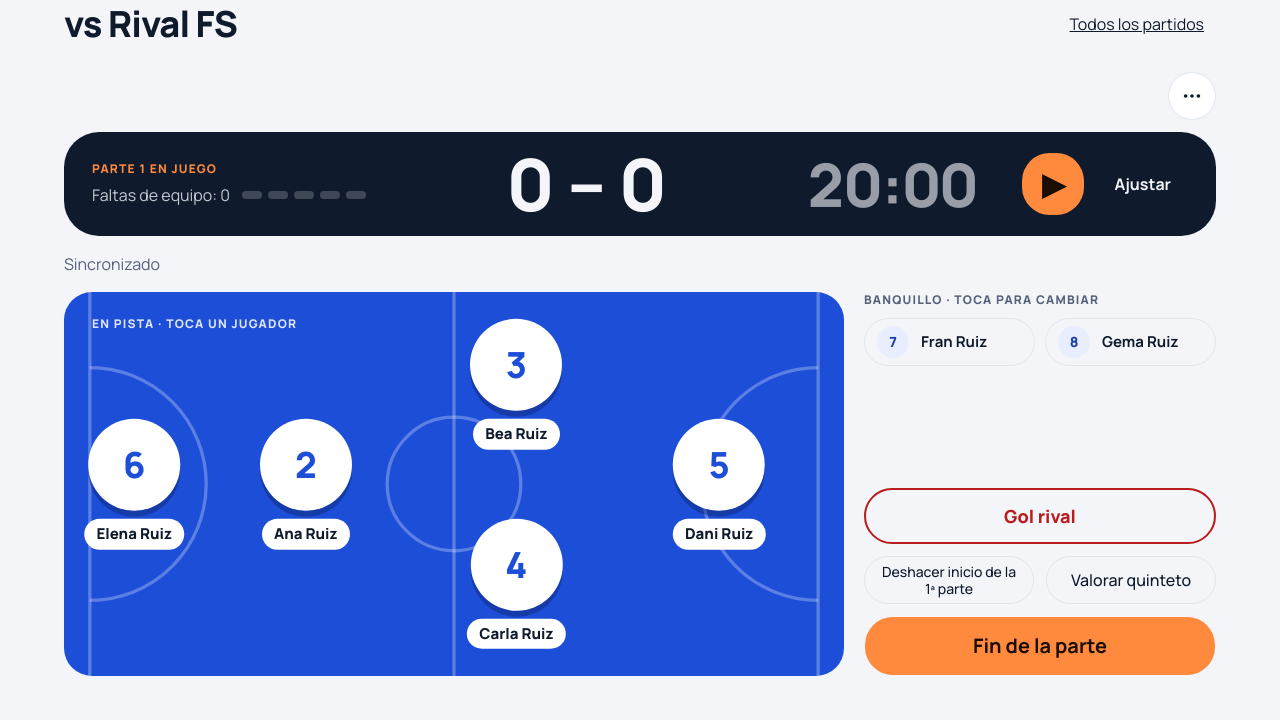
Test: panel en vivo › cronómetro › se para solo al llegar a 0:00
Click the button with aria-label "Ajustar el reloj" at (1143, 184), box [1098,152,1188,216]
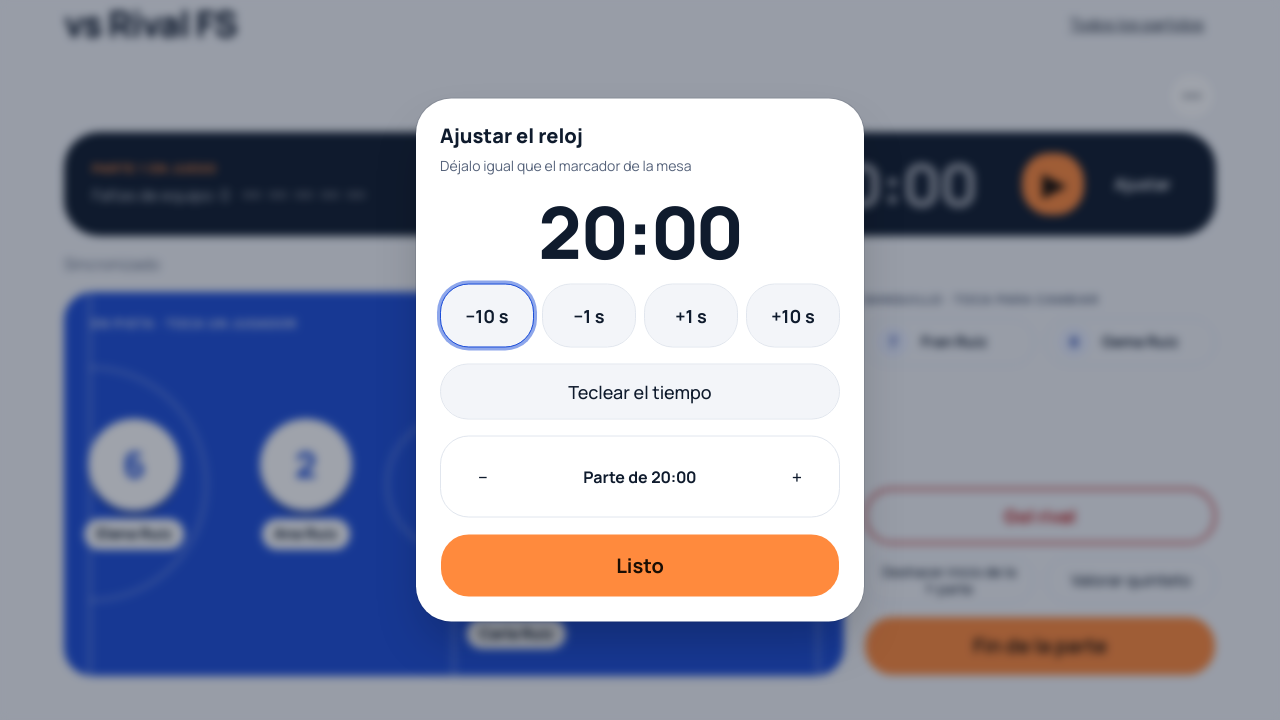
Click the button "Teclear el tiempo" at (640, 392), box [440,364,840,420]
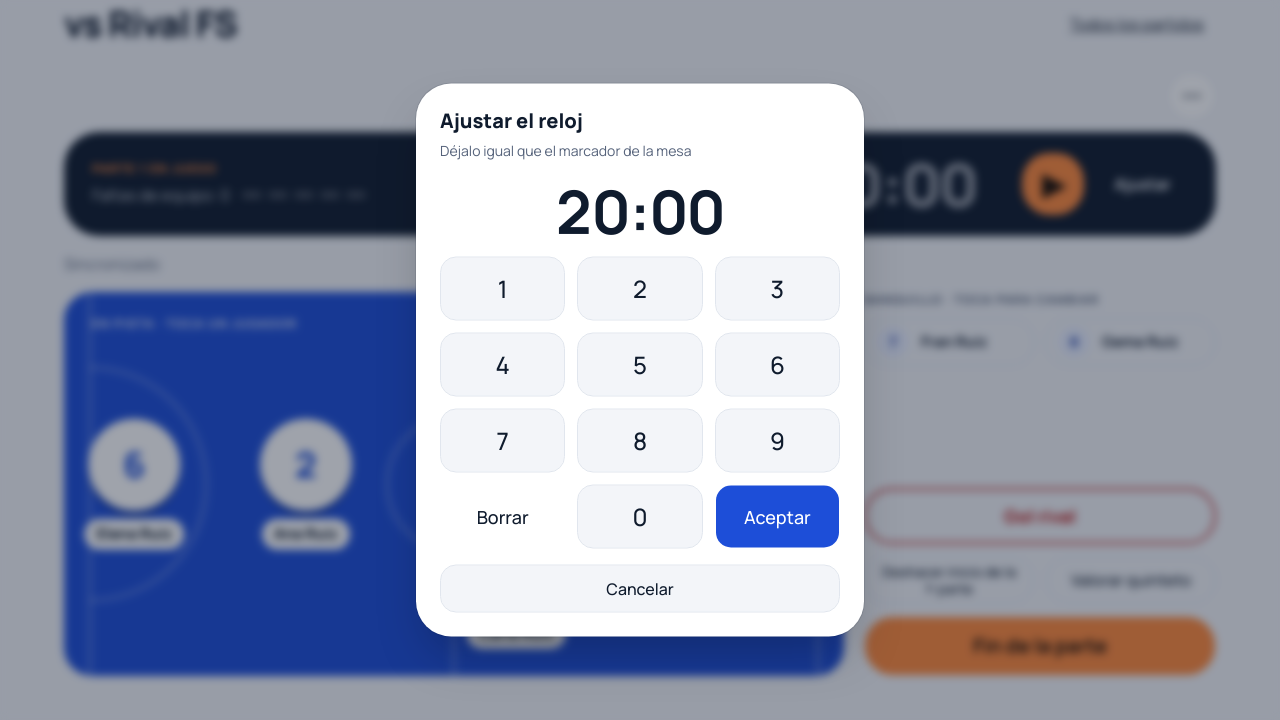
Click the button "5" at (640, 364), box [577,332,703,396]
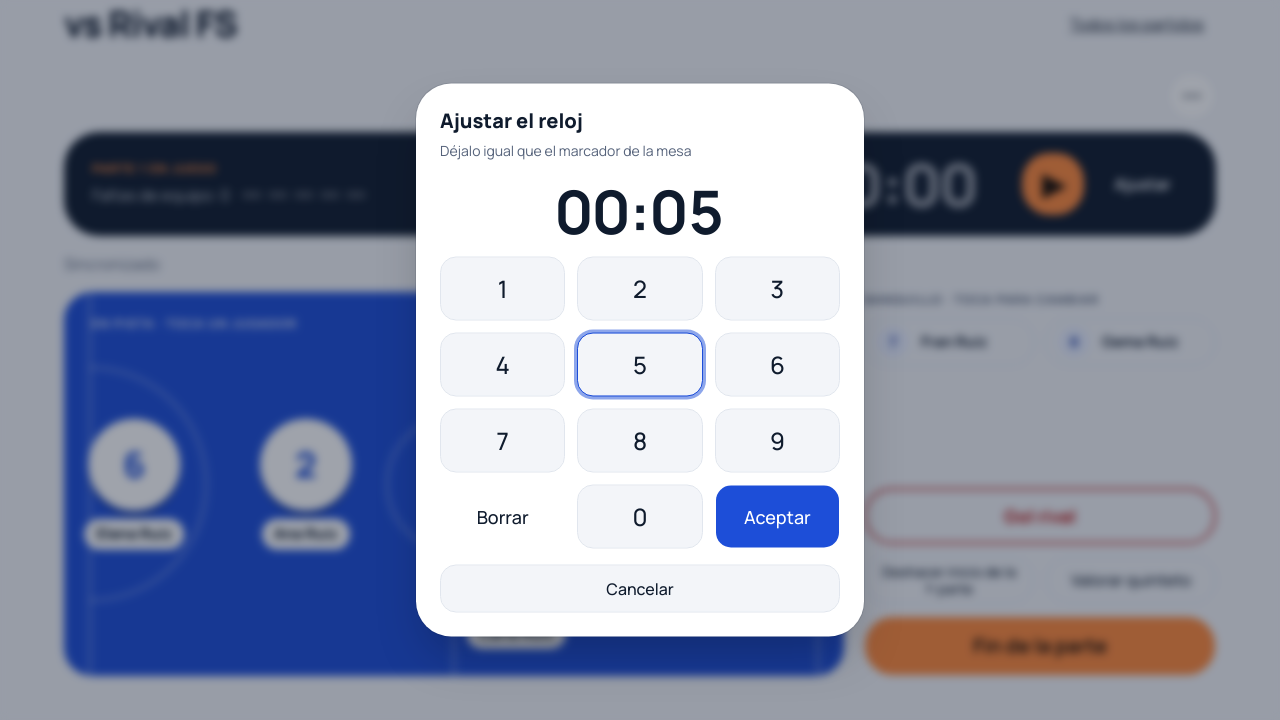
Click the button "Aceptar" at (777, 516), box [715,484,840,548]
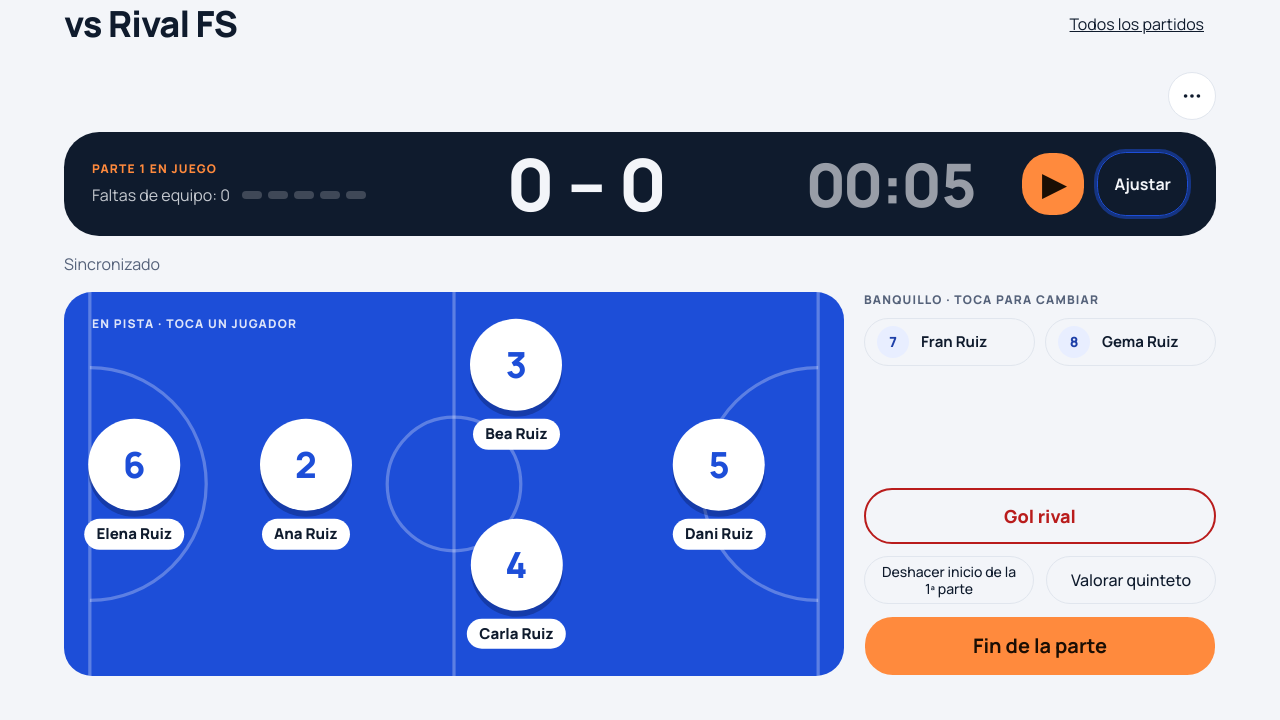
Click the button named "Arrancar el reloj" at (1054, 184), box [1022,152,1086,216]
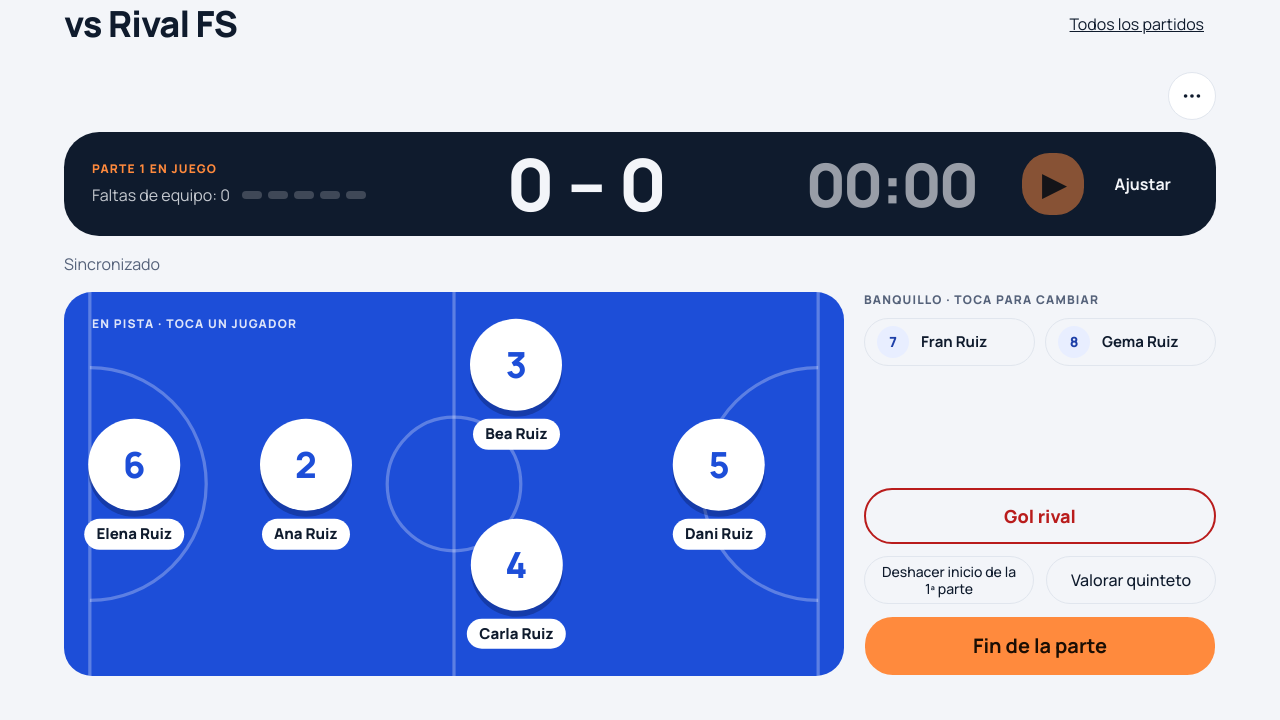
Expected: the text named "Reloj" reads "00:00", [807,143,978,225]
Expected: the button named "Arrancar el reloj" is disabled, [1022,152,1086,216]
